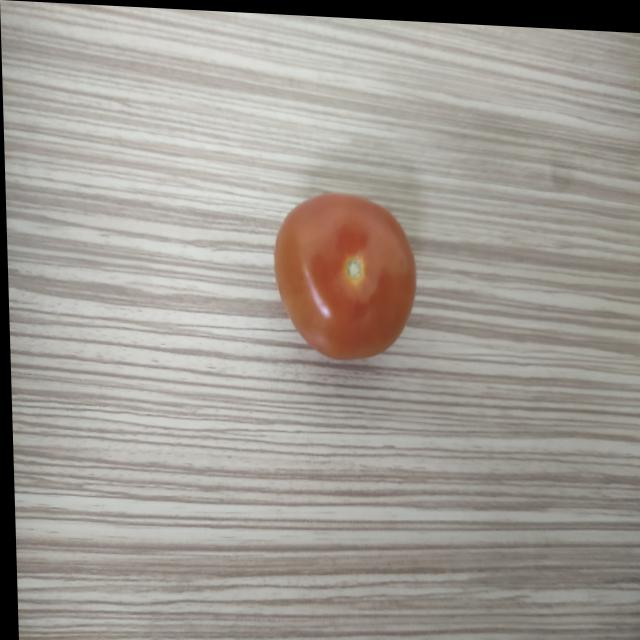sari: (259, 180, 438, 377)
